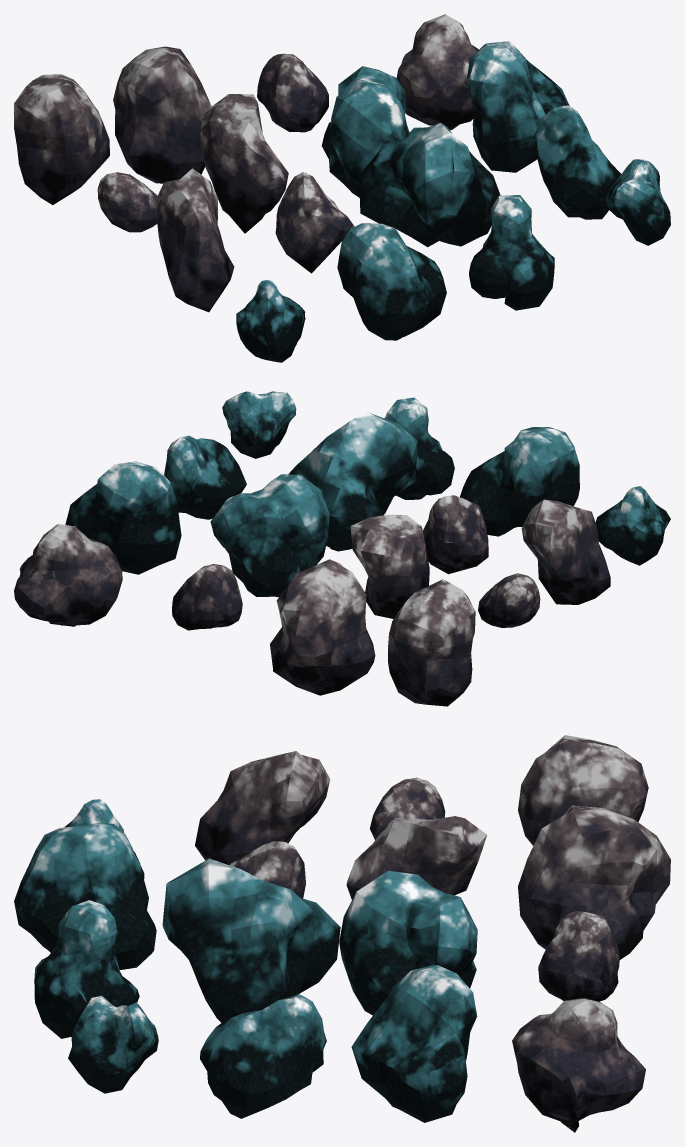
File: rocks.fbx
3 views of the same model, one above another, from view 1: azimuth 30°, elevation 25°; view 2: azimuth 150°, elevation 25°; view 3: azimuth 270°, elevation 25° (orthographic). The views are drawn at different scales.
Visible parts, largest first — view 1: rock.006, rock.011, rock.012, rock.008, rock.002, rock.010, rock.014, rock.005, rock.003, rock.007, rock.001, rock.009 (+4 smaller); view 2: rock.011, rock.005, rock.006, rock.012, rock.002, rock.003, rock.008, rock.014, rock.010, rock.001, rock.009, rock.015 (+4 smaller); view 3: rock.006, rock.011, rock.002, rock.005, rock.008, rock.003, rock.001, rock.014, rock.012, rock.007, rock.010, rock (+4 smaller).
Boxes of the visible parts, <box> form: rock.006: <box>359,123,500,247</box>; rock.011: <box>113,46,211,183</box>; rock.012: <box>14,74,109,204</box>; rock.008: <box>337,223,446,340</box>; rock.002: <box>467,41,569,172</box>; rock.010: <box>200,94,288,233</box>; rock.014: <box>156,168,234,312</box>; rock.005: <box>321,66,409,197</box>; rock.003: <box>396,14,478,130</box>; rock.007: <box>469,195,554,310</box>; rock.001: <box>533,105,621,219</box>; rock.009: <box>275,172,354,273</box>; rock.011: <box>270,559,375,695</box>; rock.005: <box>210,474,329,597</box>; rock.006: <box>288,411,417,551</box>; rock.012: <box>388,579,475,706</box>; rock.002: <box>65,461,181,574</box>; rock.003: <box>14,524,122,626</box>; rock.008: <box>460,427,579,536</box>; rock.014: <box>521,499,610,604</box>; rock.010: <box>350,514,429,618</box>; rock.001: <box>164,435,246,519</box>; rock.009: <box>423,495,488,574</box>; rock.015: <box>595,486,670,565</box>; rock.006: <box>162,858,340,1022</box>; rock.011: <box>518,805,670,959</box>; rock.002: <box>351,965,477,1122</box>; rock.005: <box>339,870,477,1015</box>; rock.008: <box>14,823,156,969</box>; rock.003: <box>512,998,645,1132</box>; rock.001: <box>200,994,326,1118</box>; rock.014: <box>195,751,330,865</box>; rock.012: <box>518,735,648,845</box>; rock.007: <box>34,900,139,1038</box>; rock.010: <box>346,816,486,899</box>; rock: <box>68,995,158,1093</box>.
Bounding box in the file's own units: 630 × 182 × 632.
